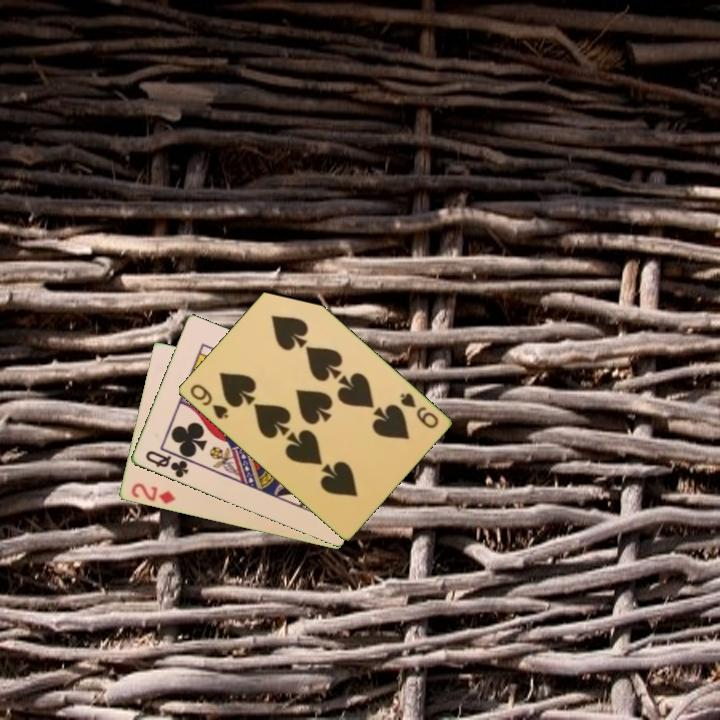2d: (127, 479, 178, 507)
9s: (186, 380, 231, 422), (396, 389, 441, 431)
Qc: (141, 447, 191, 481)
